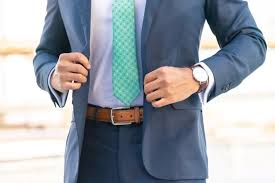F_belt: (75, 100, 169, 133)
